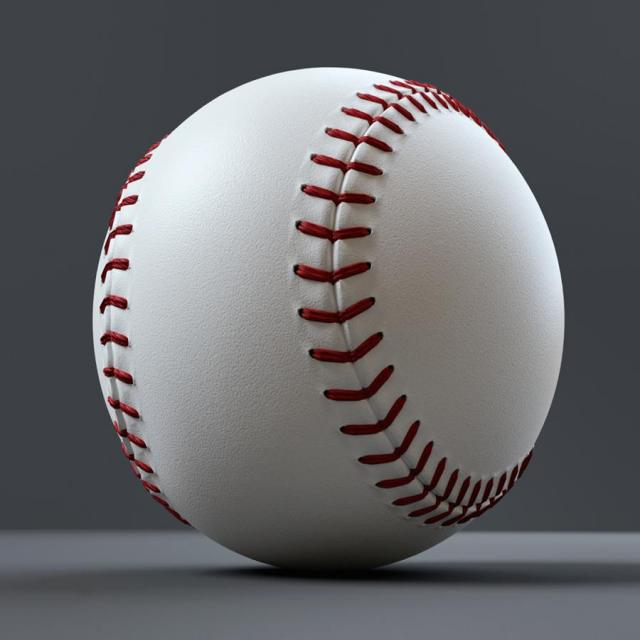baseball: (89, 66, 566, 574)
